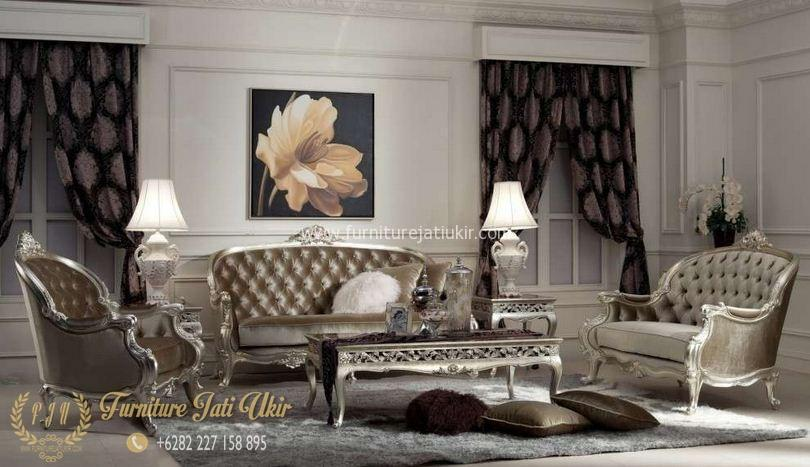Carving Chair: (13, 225, 226, 420), (586, 228, 789, 401), (213, 230, 455, 370)
Carving Table: (306, 326, 564, 413)
